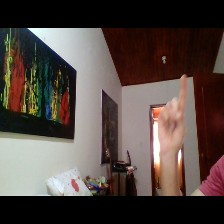2T: (153, 71, 195, 154)
